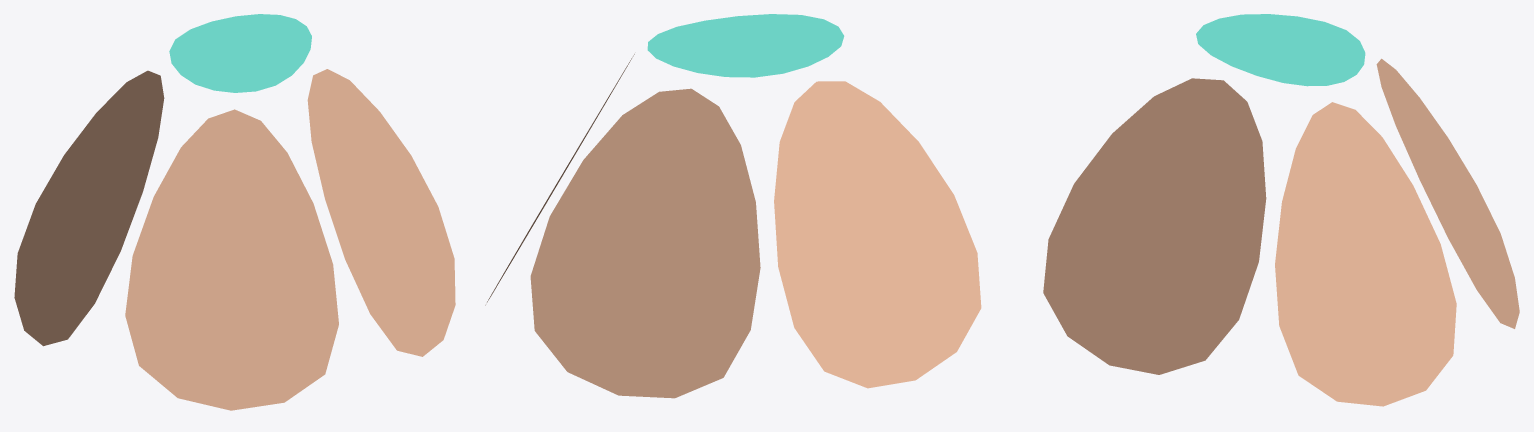
File: rock_smallA.glb
3 views of the same model, side by side, from view 1: azimuth 30°, elevation 25°; view 2: azimuth 150°, elevation 25°; view 3: azimuth 270°, elevation 25° (orthographic). The views are drawn at different scales.
Visible parts, largest first — view 1: rock_smallA; view 2: rock_smallA; view 3: rock_smallA.
Boxes of the visible parts, x1,y1,x2,y2 form: rock_smallA: (14, 14, 455, 410); rock_smallA: (485, 14, 981, 398); rock_smallA: (1043, 14, 1519, 406).
Size of the model in its own units: 0.3065 by 0.1912 by 0.3139.
